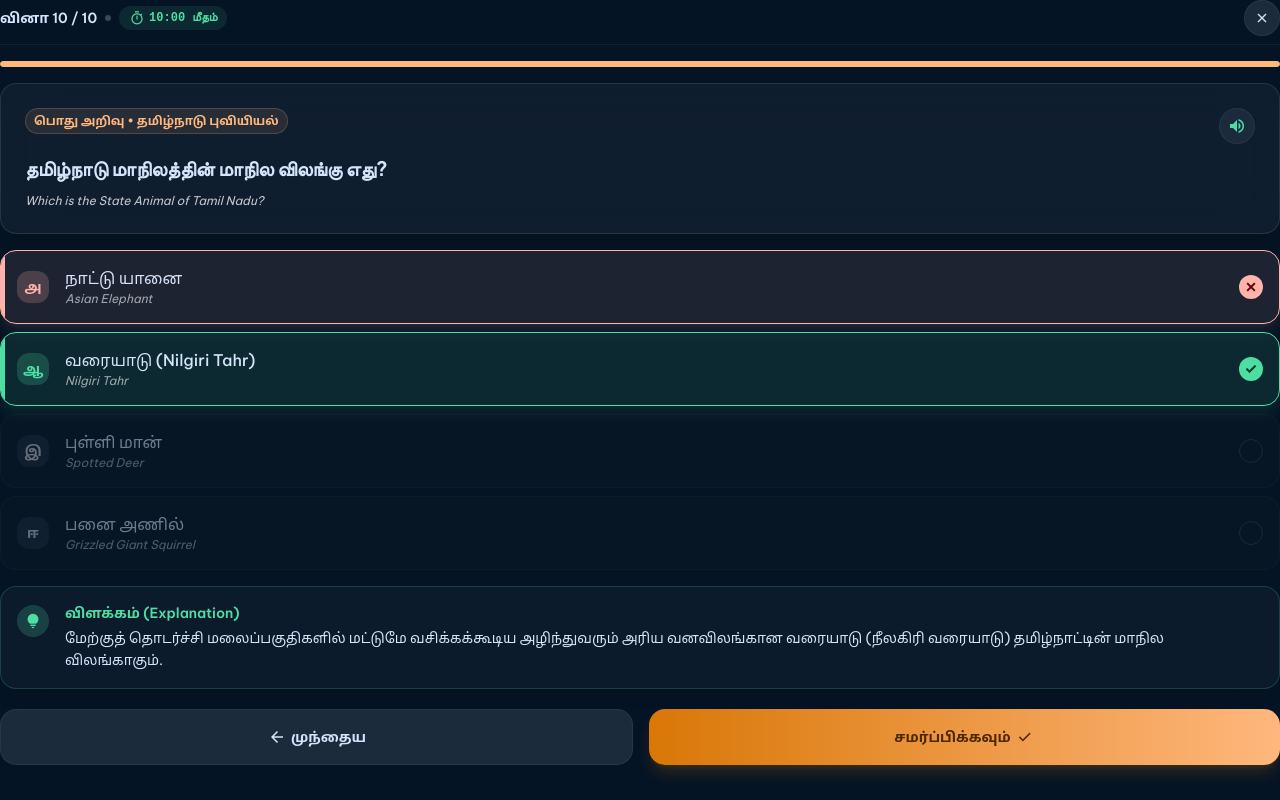
Test: Milestone 3 Challenger: Daily Quiz & Home Empirical Stress Tests › 4. Score Calculation & Quiz Summary Modal › calculates score accurately and shows confetti celebration upon quiz completion
Expected: the text "வினா 1 / 10" is shown, top-left (0, 8), bottom-right (97, 28)
Click the button "சமர்ப்பிக்கவும்".
click(964, 737)  # box top-left (649, 709), bottom-right (1279, 765)
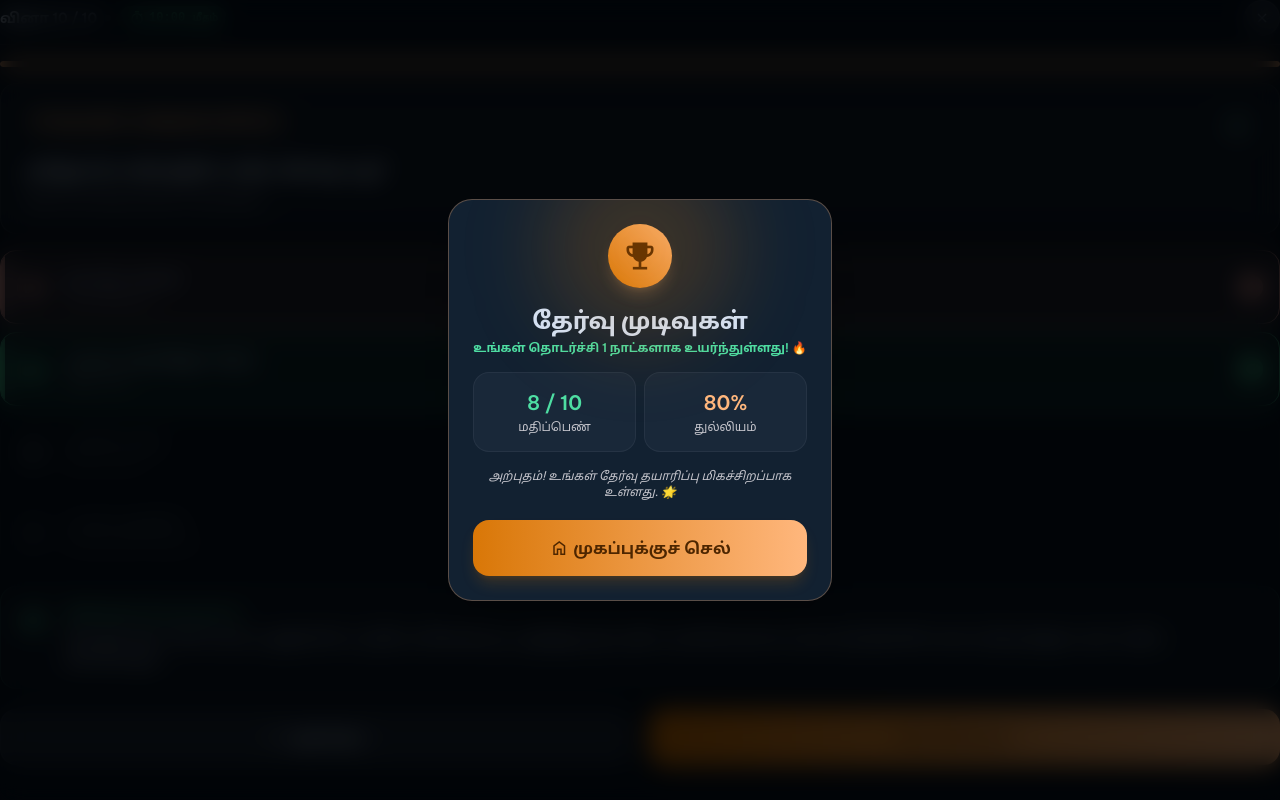
Result: the heading "தேர்வு முடிவுகள்" is shown at top-left (532, 305), bottom-right (748, 335)
Result: the text "8 / 10" is shown at top-left (527, 389), bottom-right (582, 417)
Result: the text "80%" is shown at top-left (703, 389), bottom-right (748, 417)
